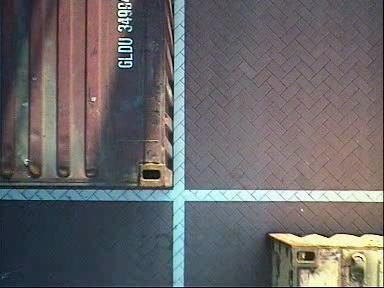groundmarker_2: (158, 123, 235, 220)
